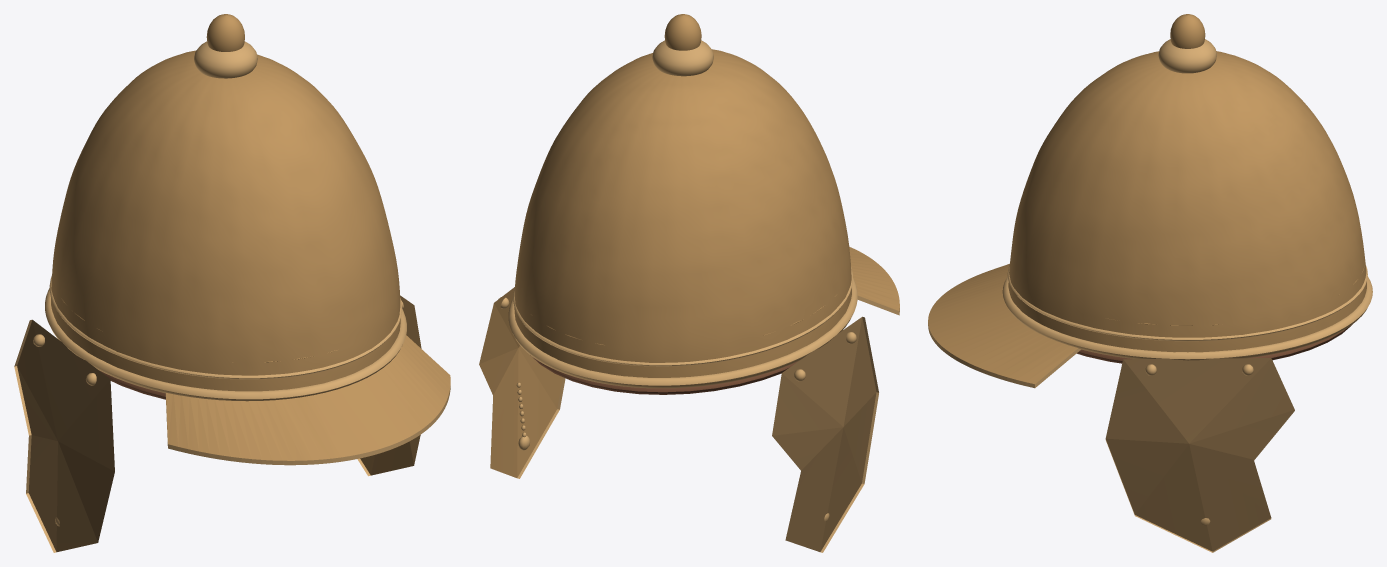
File: helmet_lod0.glb
3 views of the same model, side by side, from view 1: azimuth 30°, elevation 25°; view 2: azimuth 150°, elevation 25°; view 3: azimuth 270°, elevation 25° (orthographic). The views are drawn at different scales.
Parts seen in each view (by area): view 1: Viva_Montefortino_study; view 2: Viva_Montefortino_study; view 3: Viva_Montefortino_study.
Boxes of the visible parts, x1,y1,x2,y2 form: Viva_Montefortino_study: (14, 14, 450, 552); Viva_Montefortino_study: (479, 14, 899, 552); Viva_Montefortino_study: (928, 14, 1372, 552).
Size of the model in its own units: 0.2453 by 0.351 by 0.3032.
